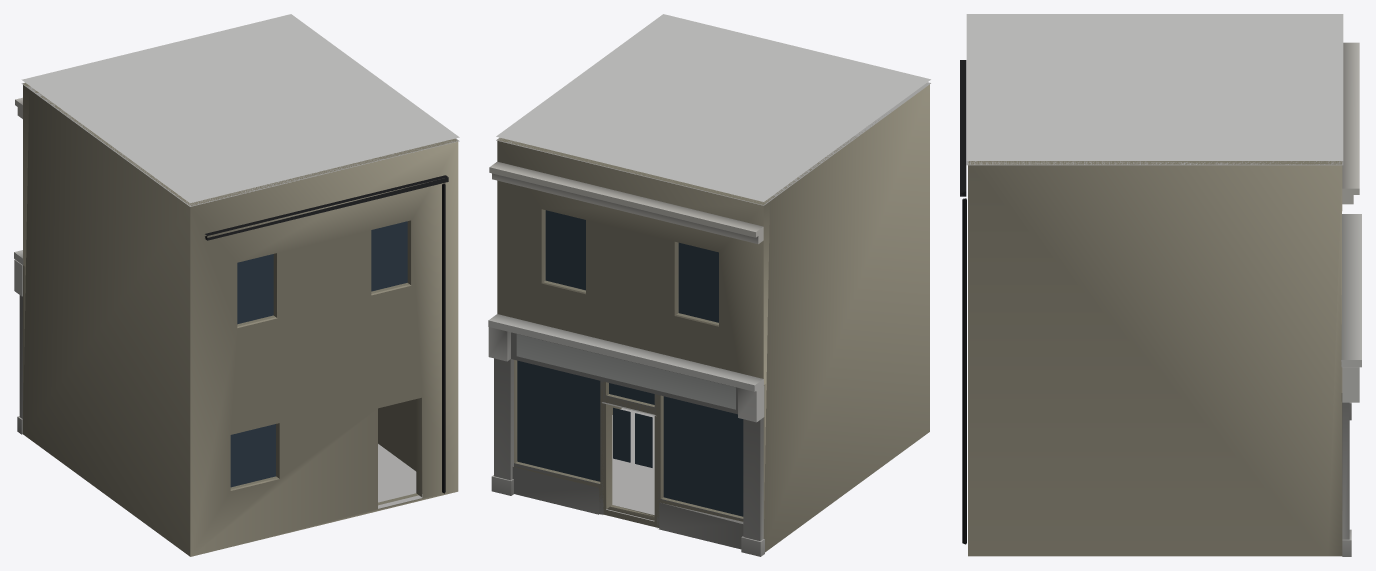
Rendered from pharmacy_mirror.glb.
The picture shows the model from 3 angles, left to right: view 1: azimuth 30°, elevation 25°; view 2: azimuth 150°, elevation 25°; view 3: azimuth 270°, elevation 25°; orthographic projection. The views are drawn at different scales.
Visible parts, largest first — view 1: pharmacy_mirror; view 2: pharmacy_mirror; view 3: pharmacy_mirror.
Part boxes in pixels (x1,y1,x2,y2): pharmacy_mirror: (14, 14, 459, 556); pharmacy_mirror: (488, 14, 930, 556); pharmacy_mirror: (960, 14, 1361, 556).
Bounding box in the file's own units: 6.06 × 7.59 × 6.98.
